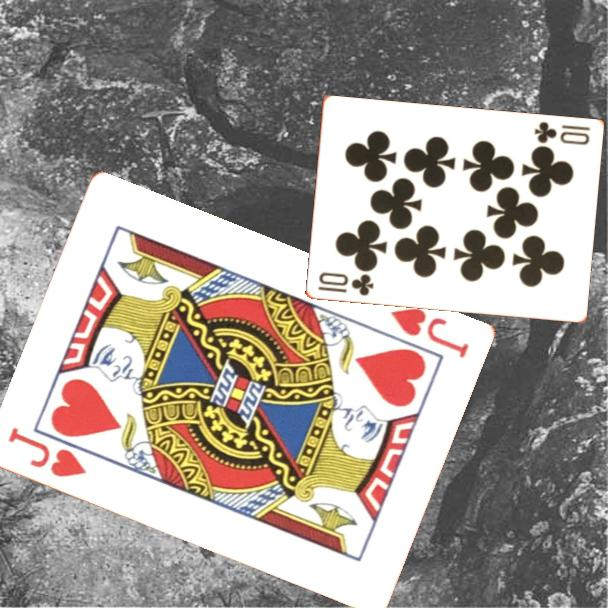c10: (314, 269, 376, 299), (530, 118, 592, 148)
h11: (386, 304, 472, 361), (4, 424, 89, 481)
